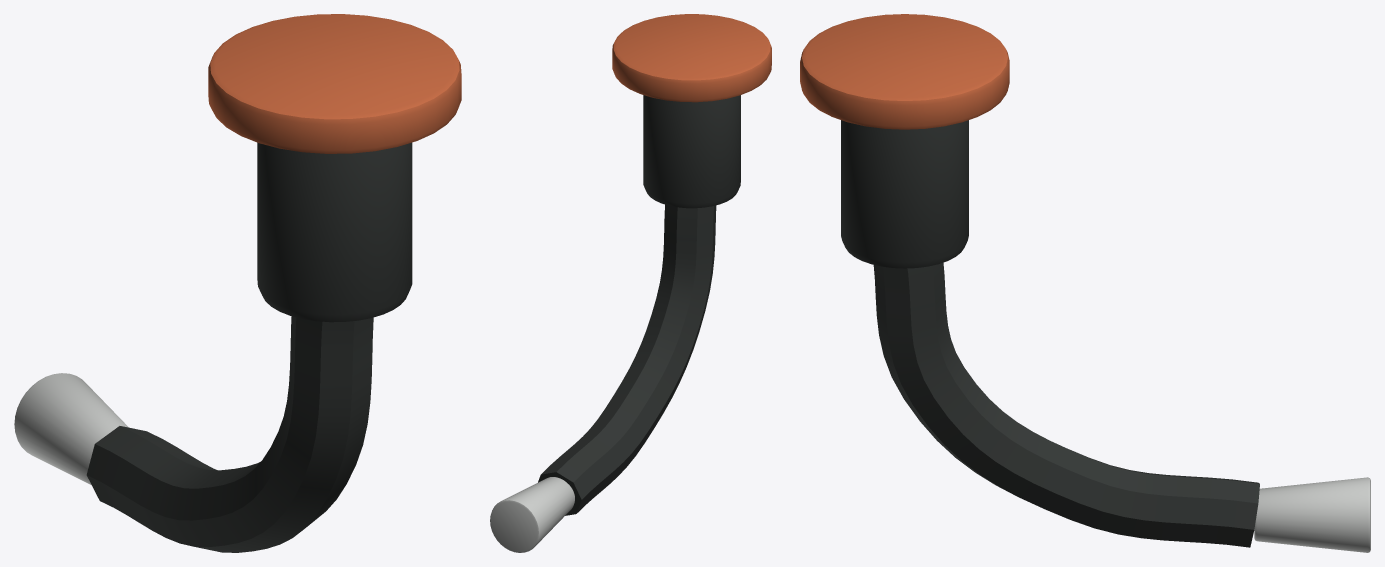
Rendered from six_axis_welding_robot_flange.glb.
3 views of the same model, side by side, from view 1: azimuth 30°, elevation 25°; view 2: azimuth 150°, elevation 25°; view 3: azimuth 270°, elevation 25° (orthographic). The views are drawn at different scales.
Parts seen in each view (by area): view 1: six_axis_welding_robot_flange; view 2: six_axis_welding_robot_flange; view 3: six_axis_welding_robot_flange.
Boxes of the visible parts, x1,y1,x2,y2 form: six_axis_welding_robot_flange: (14,14,461,552); six_axis_welding_robot_flange: (490,14,771,552); six_axis_welding_robot_flange: (800,14,1370,552).
Bounding box in the file's own units: 0.072 × 0.187 × 0.196.
